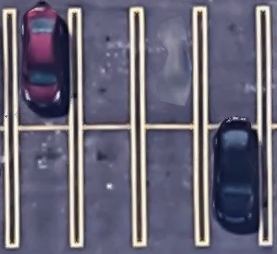Occupied: (15, 10, 71, 126), (206, 127, 261, 244)
Vacant: (15, 127, 72, 245), (79, 126, 135, 246), (205, 9, 261, 127), (142, 127, 198, 244), (141, 9, 196, 127), (79, 9, 134, 126)
